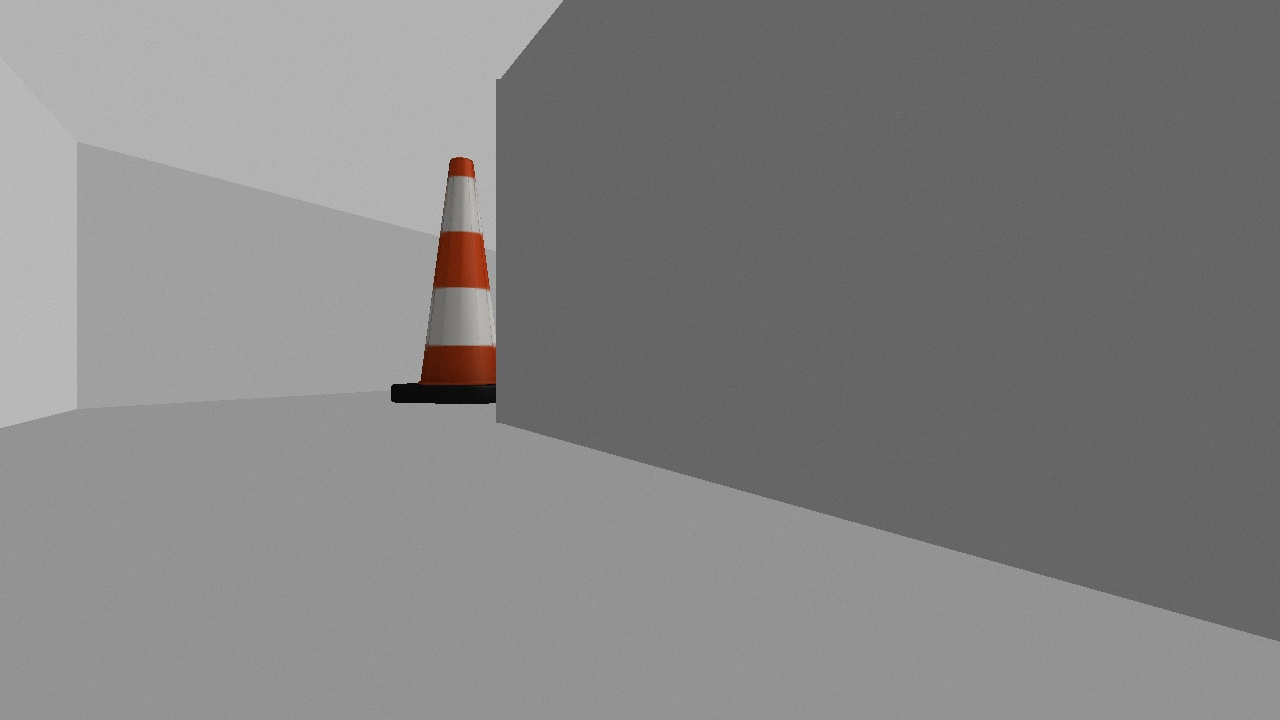barricade: (390, 157, 527, 405)
